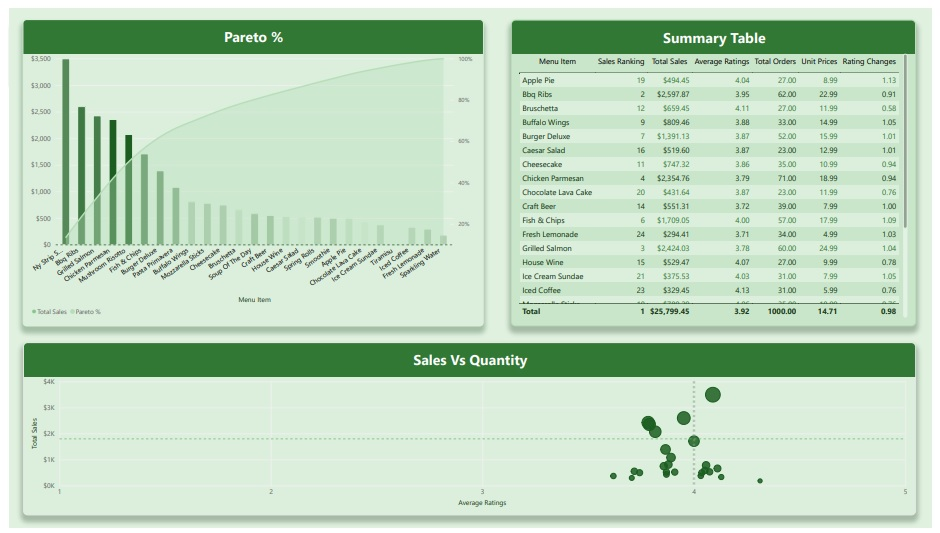

What the dashboard file says about the page in this screenshot:
{"tool":"powerbi","page":{"name":"Product Performance","canvas":[1920,1080],"ordinal":3},"visuals":[{"type":"scatterChart","title":"Sales Vs Quantity","fields":{"Category":["Restaurant Sales.Menu Item"],"Size":["Restaurant Sales.Total Sales"],"X":["Restaurant Sales.Average Ratings"],"Y":["Restaurant Sales.Total Sales"]},"box":[30,692.5,1857.5,360],"z":0},{"type":"lineClusteredColumnComboChart","title":"Pareto %","fields":{"Category":["Restaurant Sales.Menu Item"],"Y":["Restaurant Sales.Total Sales"],"Y2":["Restaurant Sales.Pareto %"]},"box":[30,22.5,957.5,637.5],"z":1000},{"type":"tableEx","title":"Summary Table","fields":{"Values":["Restaurant Sales.Menu Item","Restaurant Sales.Sales Ranking","Restaurant Sales.Total Sales","Restaurant Sales.Average Ratings","Restaurant Sales.Total Orders","Restaurant Sales.Unit Prices","Restaurant Sales.Rating Changes"]},"box":[1045,22.5,842.5,637.5],"z":2000}]}

Visuals, with their boxes in screenshot pixels (x1, y1, x2, y2), scaled from the page's 1920x1080 canvas onto the 940x533 screenshot:
"Sales Vs Quantity" scatterChart: x1=15, y1=342, x2=924, y2=519
"Pareto %" lineClusteredColumnComboChart: x1=15, y1=11, x2=483, y2=326
"Summary Table" tableEx: x1=512, y1=11, x2=924, y2=326
